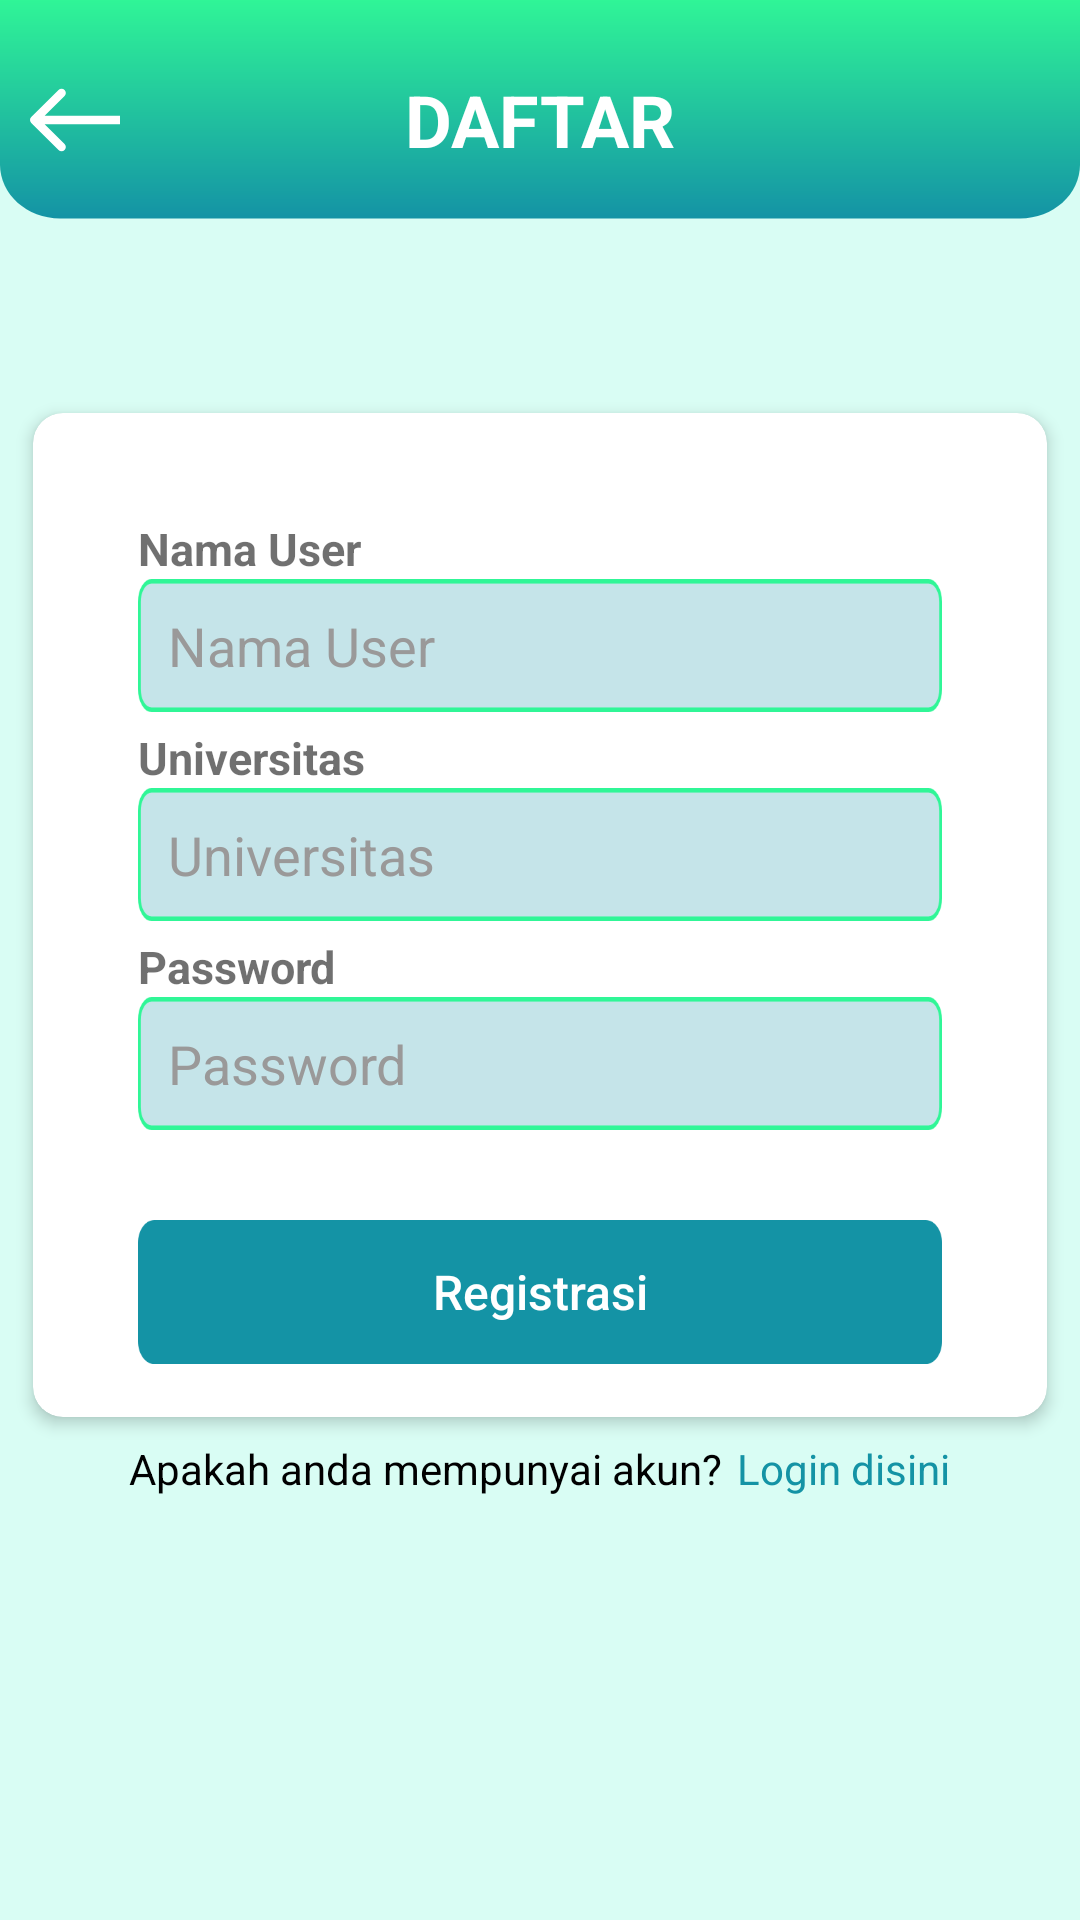

Named icons in this screenshot (1080px x 1920px) and their centers, [x,y]:
arrow: [75,120]
